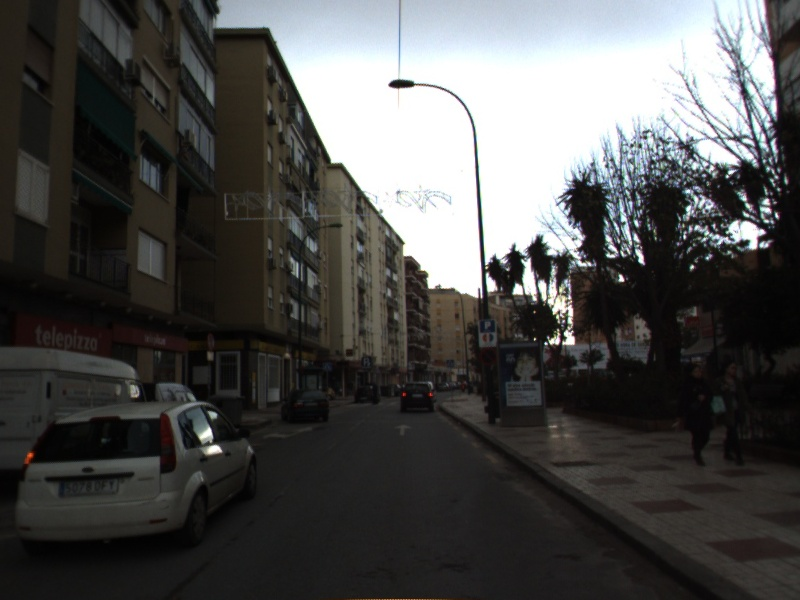STRAIGHT: (392, 422, 414, 438)
STRAIGHT_LEFT: (260, 424, 314, 441)
